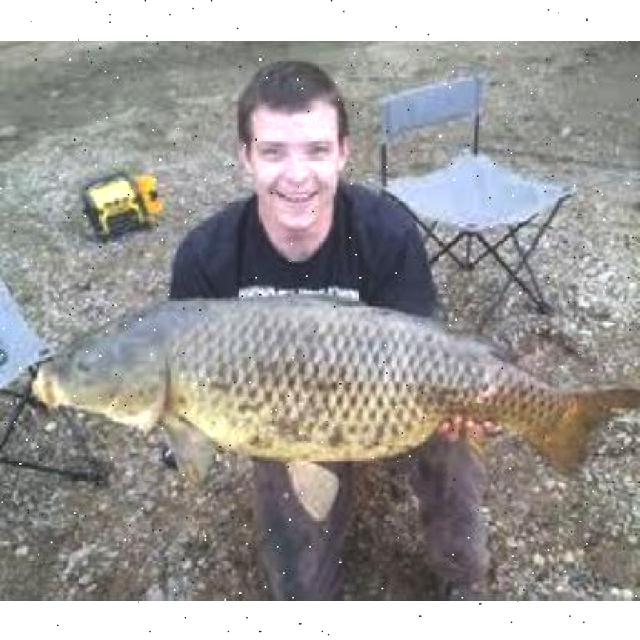ikan-mas: (32, 288, 617, 494)
